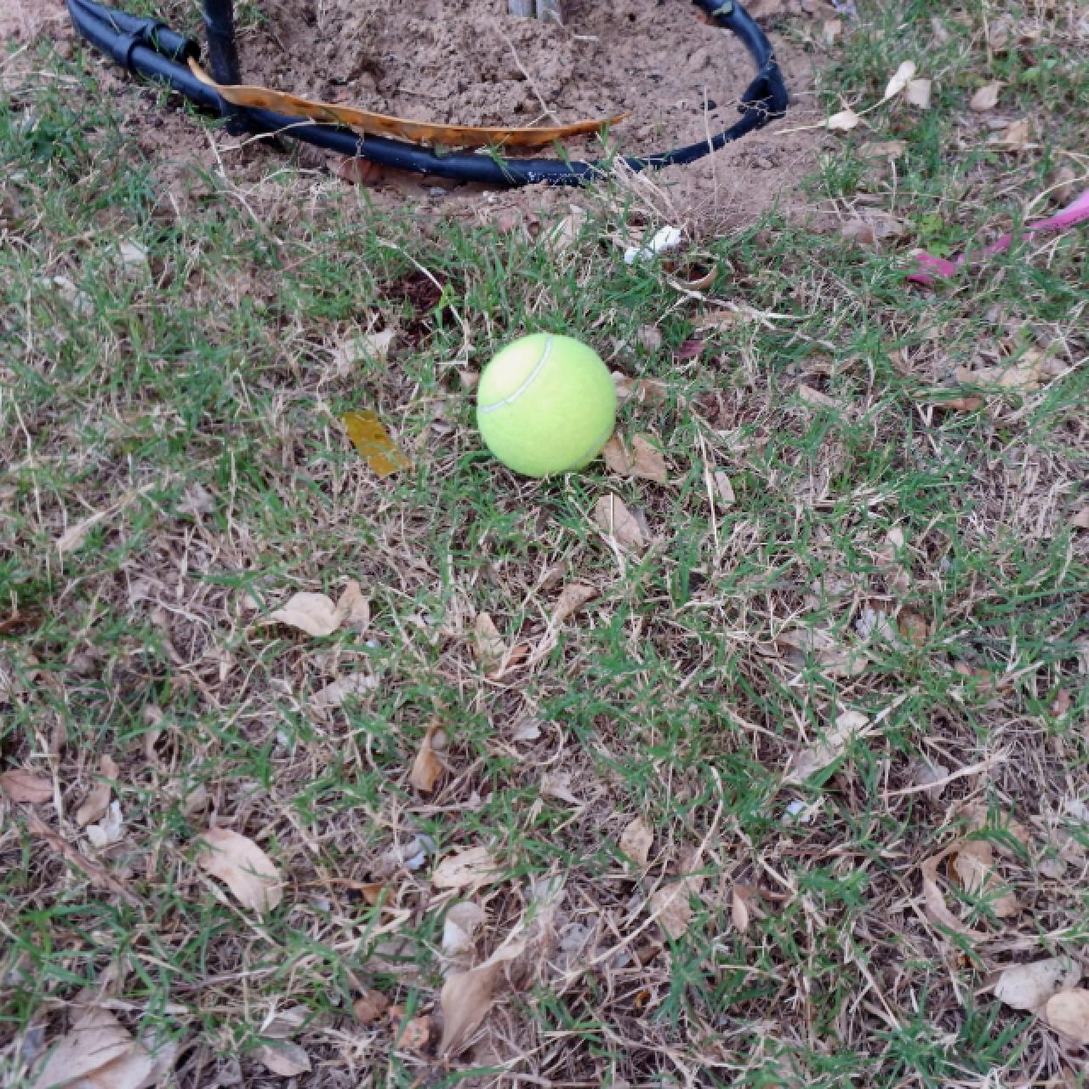tennis-ball: (476, 331, 617, 480)
